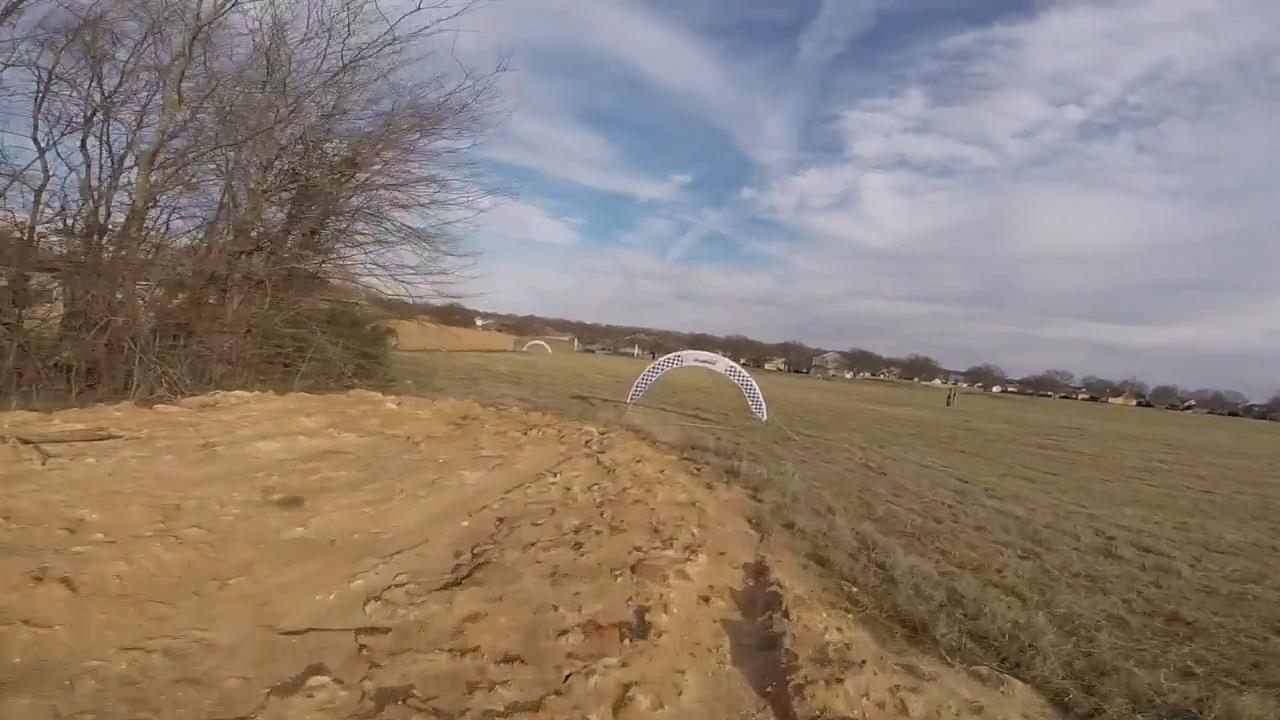gate: (626, 348, 768, 424)
